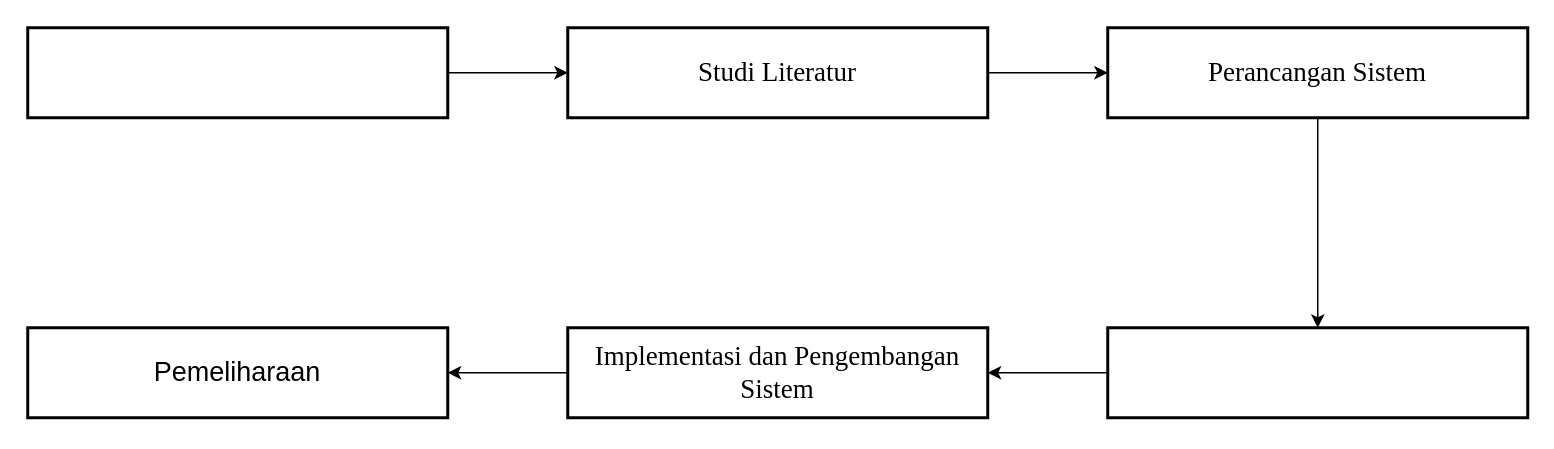
Some shapes in this 1554 by 449 pixel diagram are drawn without their labels. Each missing label, with the box of its shape:
Mengindentifikasi Permasalahan: (26, 26, 448, 118)
Pengujian Sistem: (1106, 326, 1528, 418)
